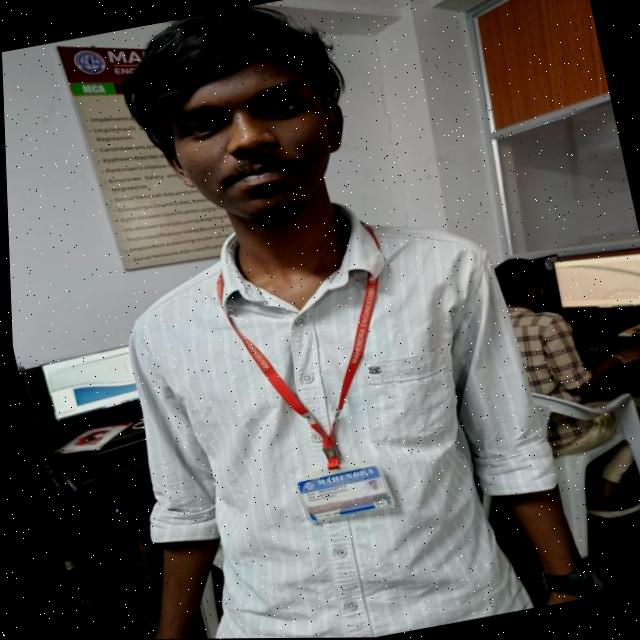id_card: (210, 244, 417, 532)
